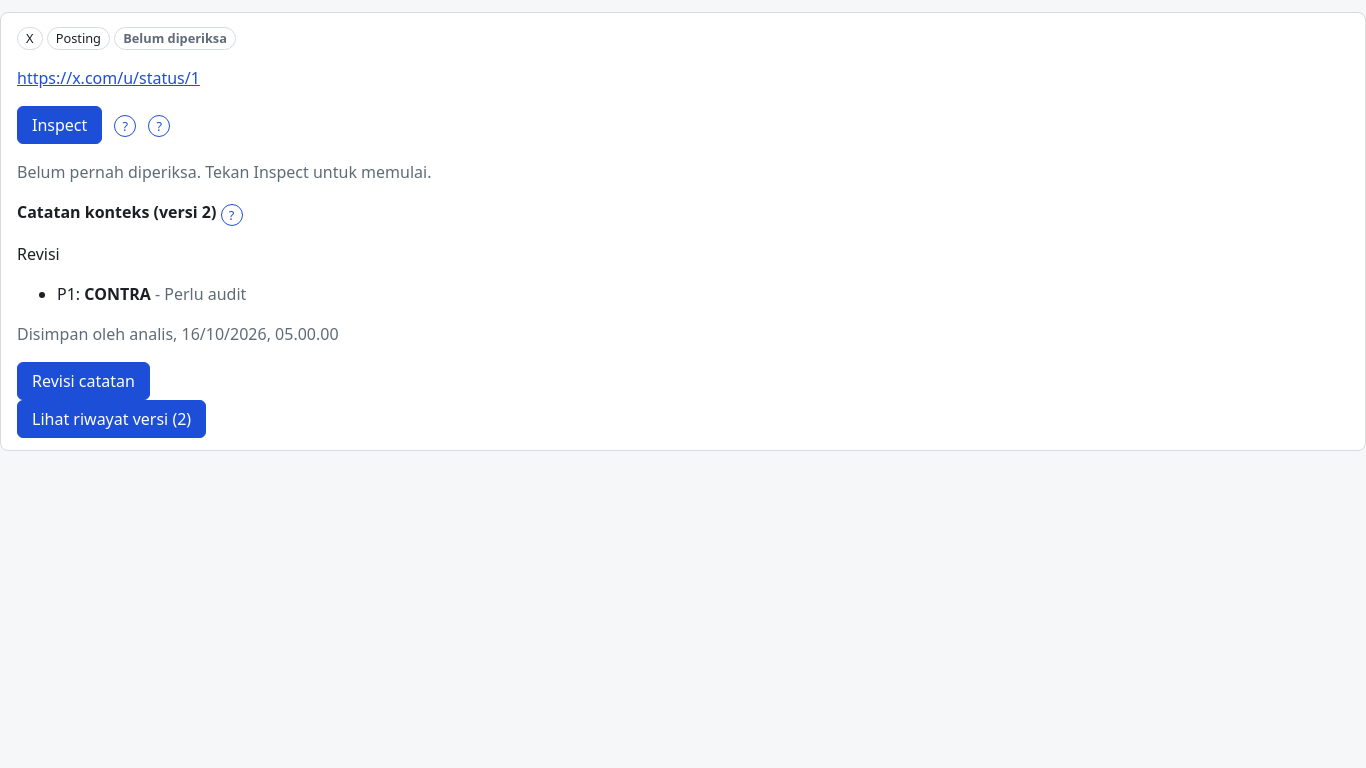
Test: TargetCard: konteks › riwayat versi baru muncul bila ada lebih dari satu versi
This screenshot has width=1366, height=768.
Click the button "Lihat riwayat versi (2)": (112, 419) [17,400,206,438]
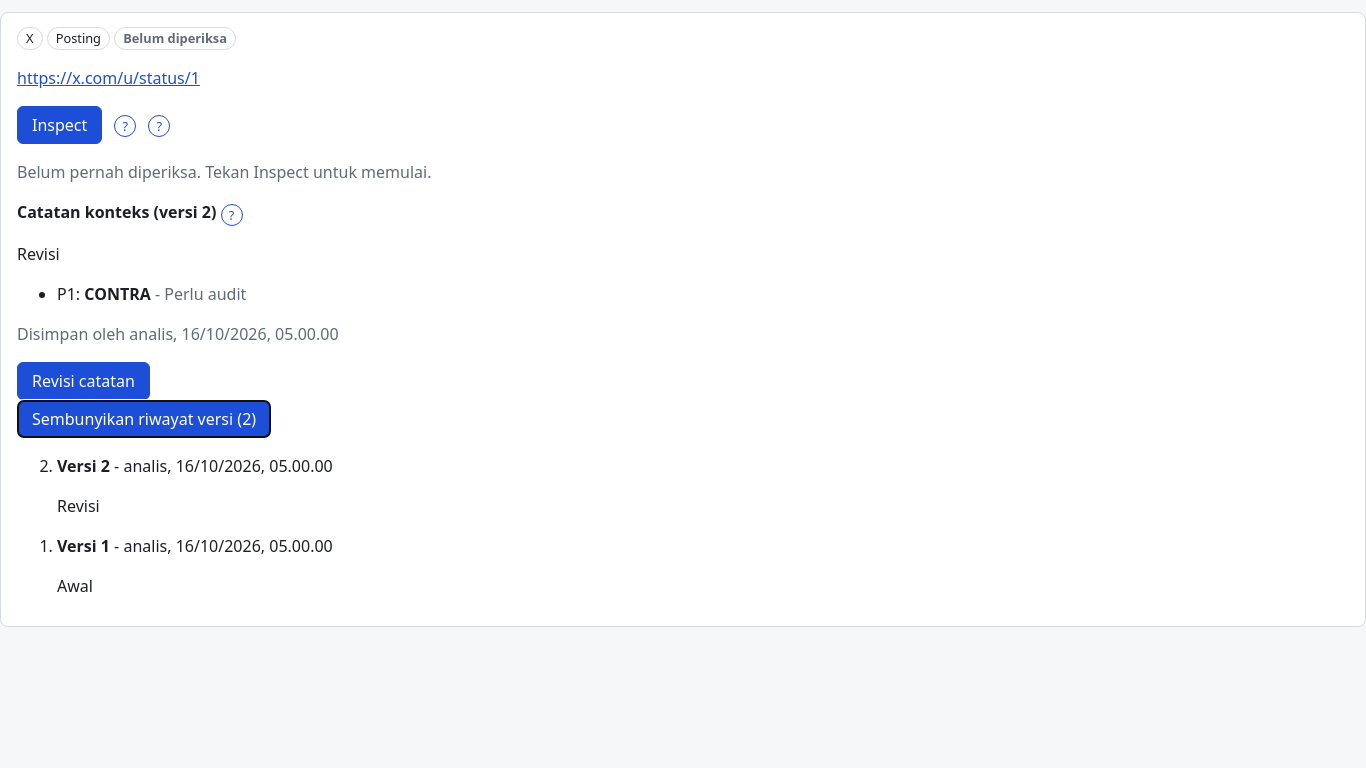
Expected: the text "Awal" is shown, [57,575,93,597]
Expected: the 2nd text "Revisi" is shown, [57,495,100,517]
